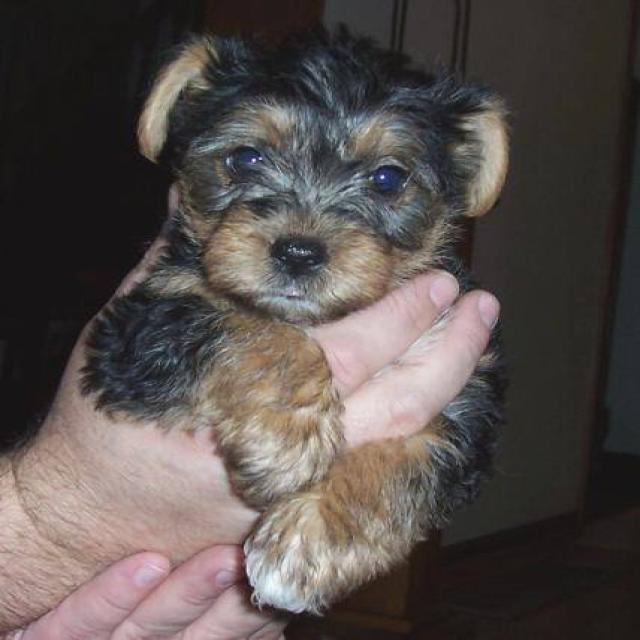dog: (70, 21, 513, 624)
